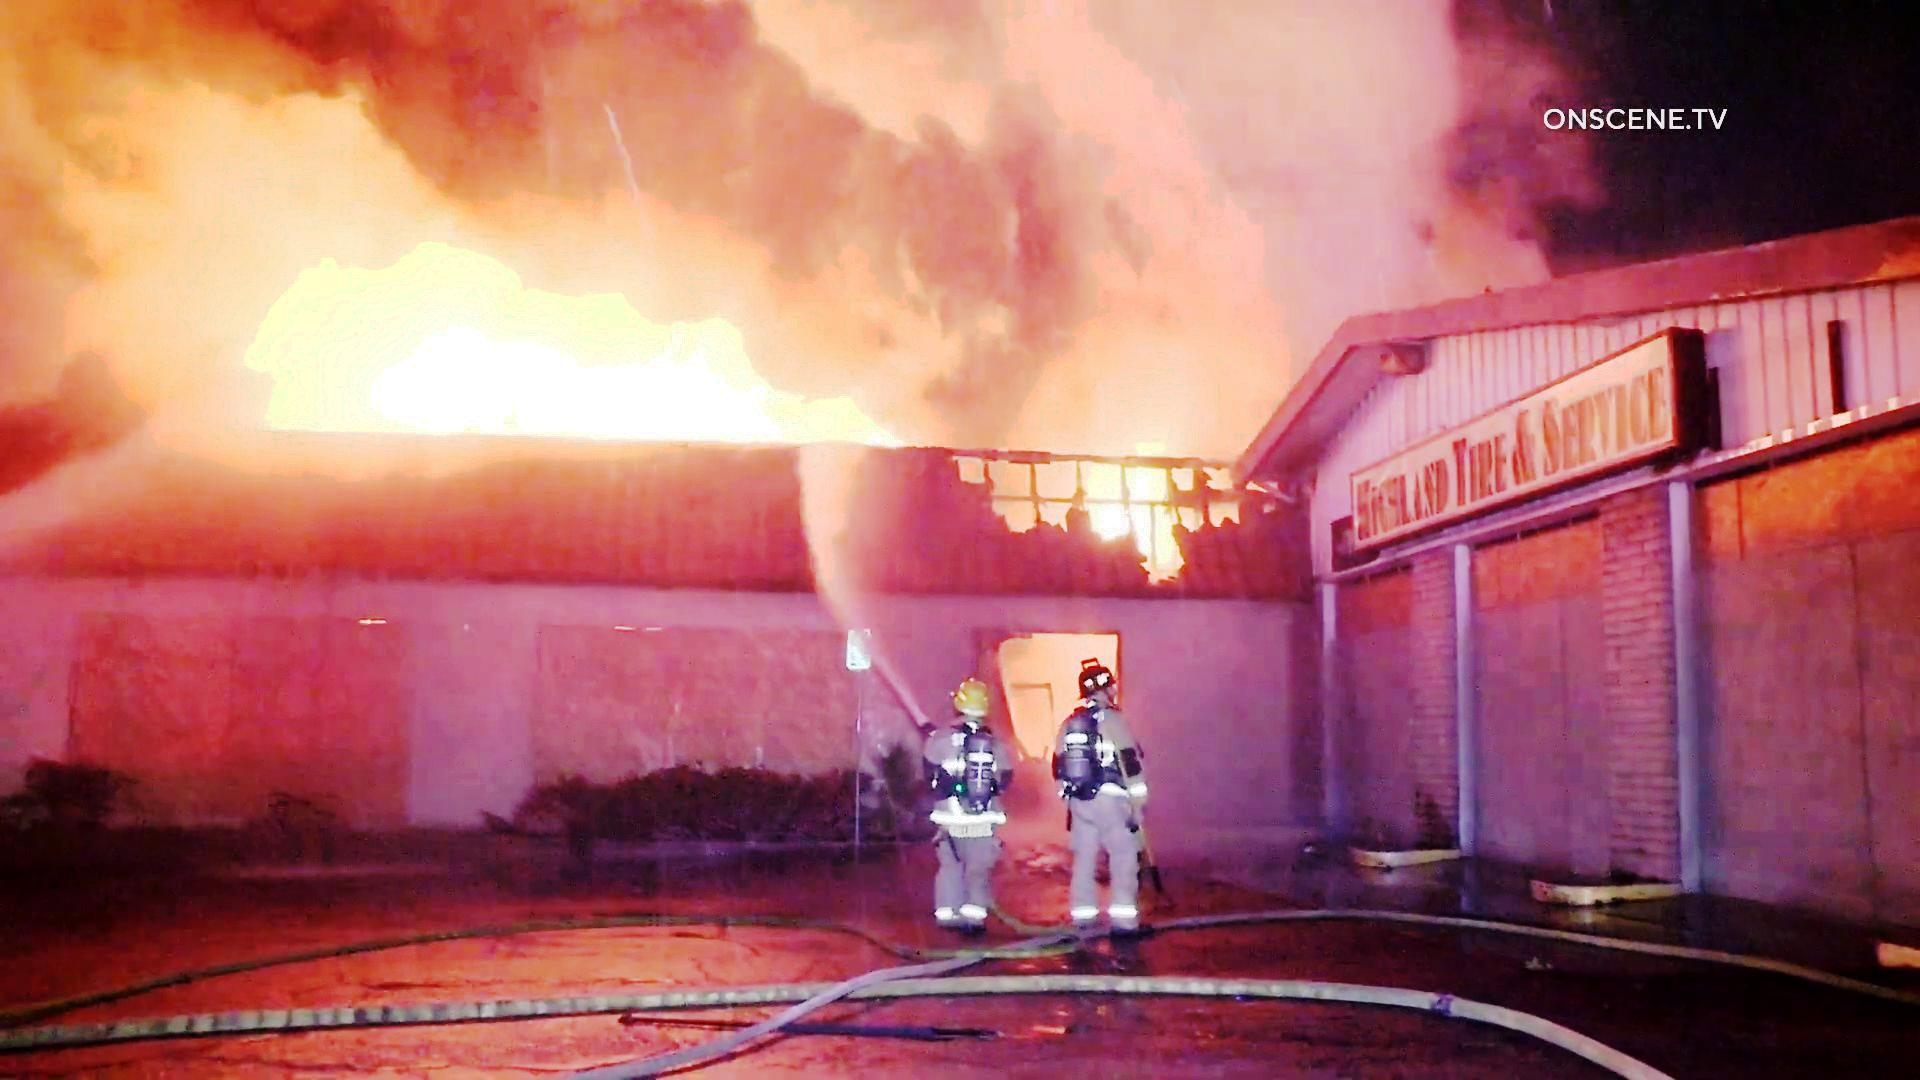fire: (256, 284, 861, 433), (1093, 435, 1197, 563)
smoke: (0, 0, 1286, 183)
